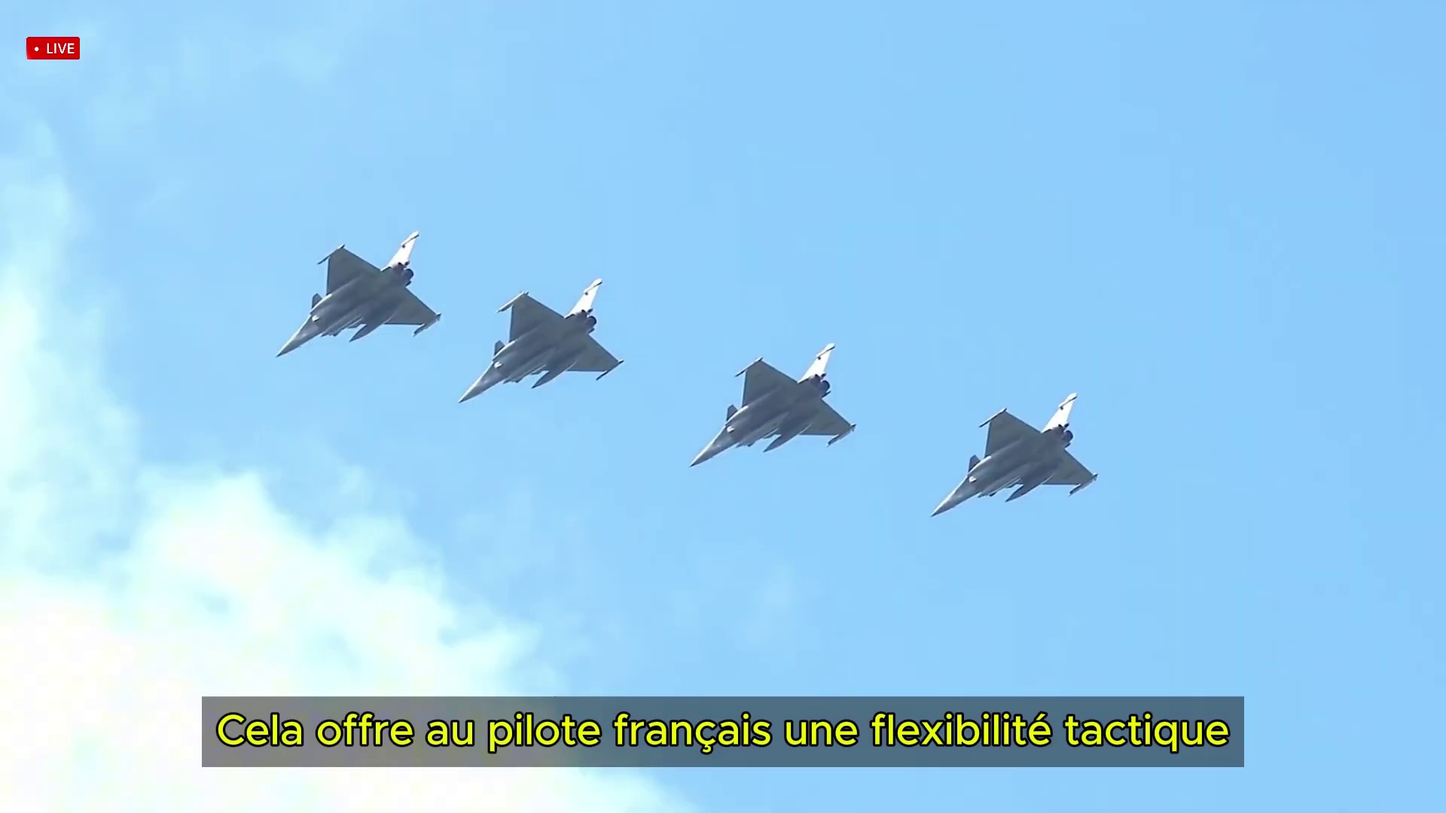Rafale: (928, 391, 1097, 517), (453, 278, 623, 402), (685, 343, 855, 466), (275, 233, 442, 358)
